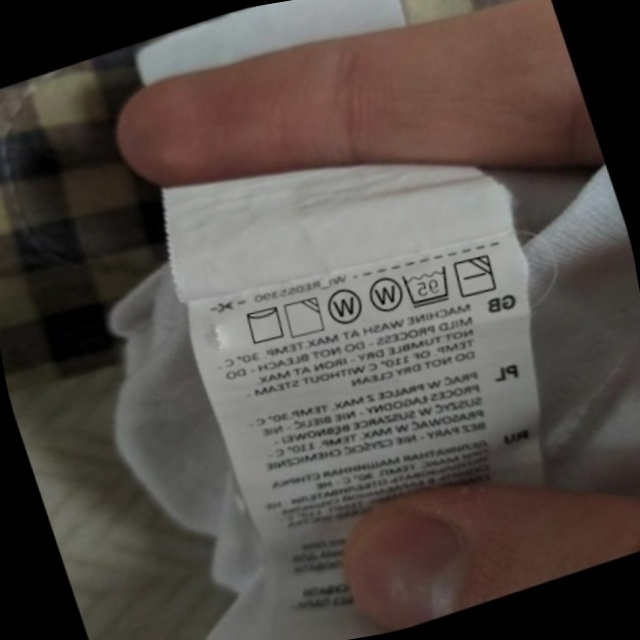95C: (395, 257, 459, 315)
dry_flat_in_shade: (447, 246, 504, 305)
line_dry: (236, 297, 292, 352)
shade_dry: (277, 290, 331, 345)
wet_clean: (318, 280, 371, 334), (358, 266, 410, 321)
